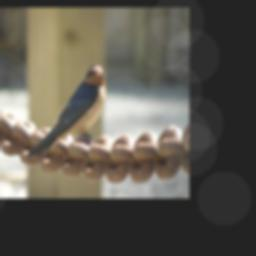Swallow: (16, 64, 108, 193)
